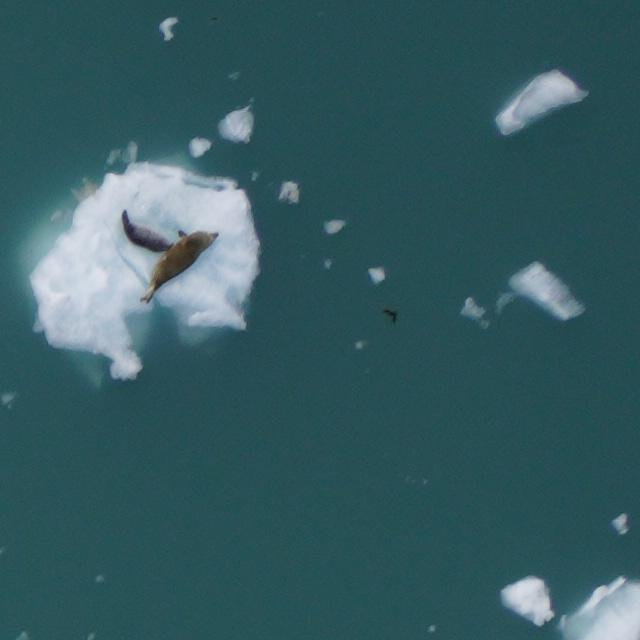seal: (126, 214, 220, 309), (113, 210, 174, 261)
